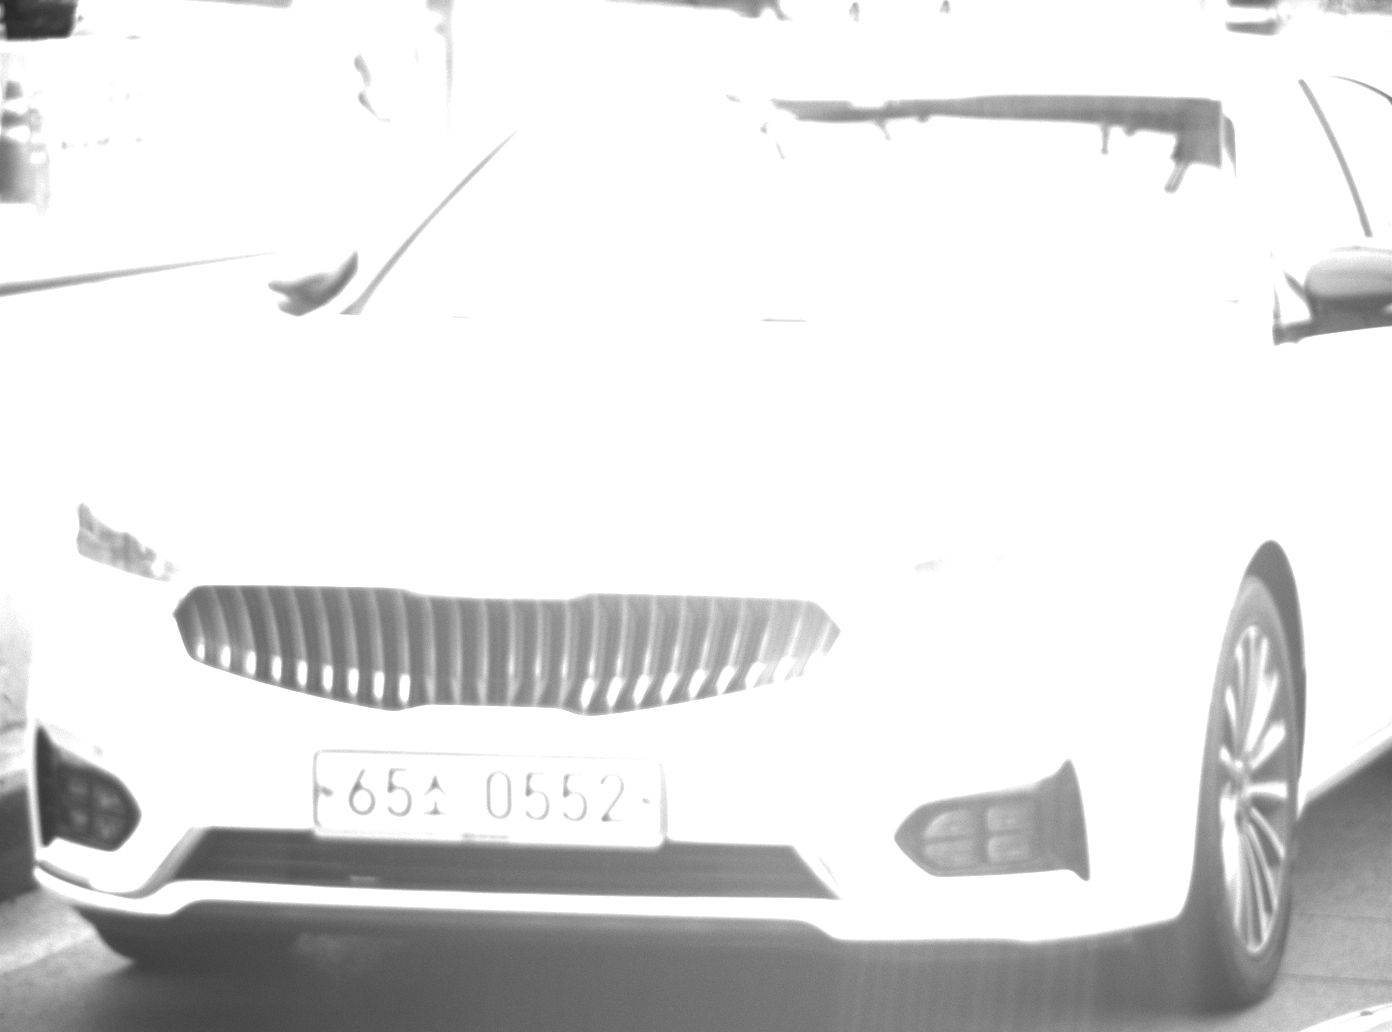car: (23, 40, 1392, 1017)
plate: (312, 751, 665, 848)
